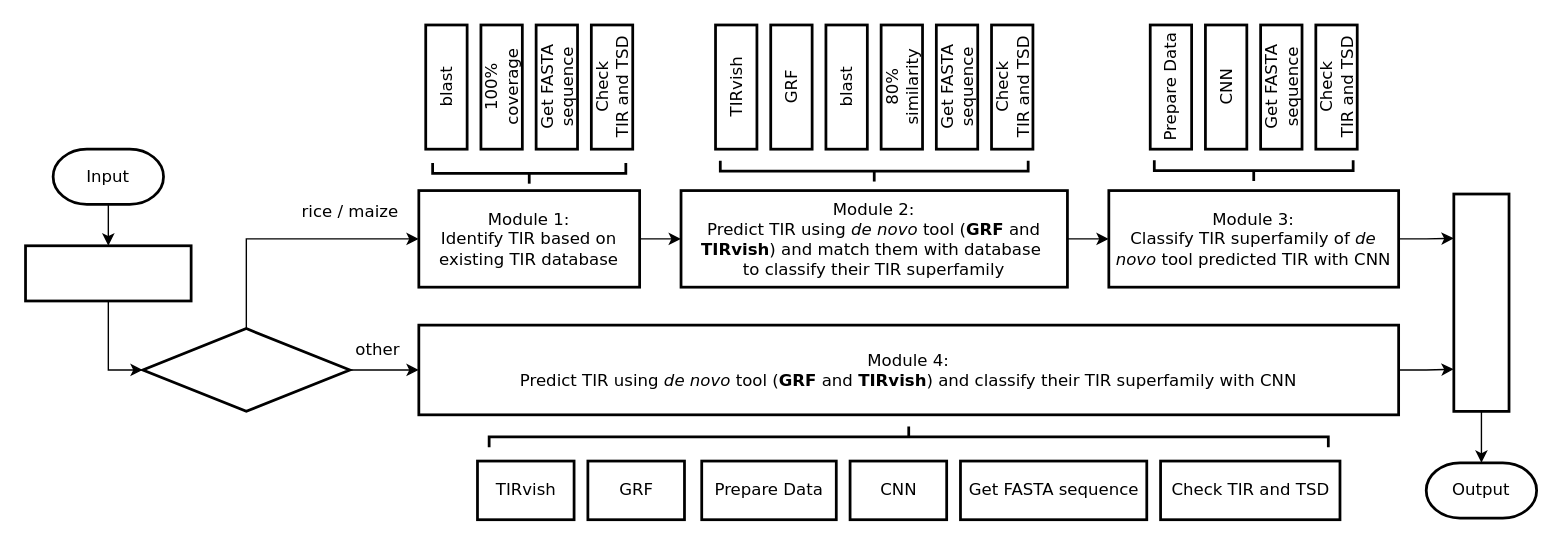
Image size: 1561x545. Some labels were removed from this diagram. The shapes that lost their labels are listed below. From the top down, each one's centre as x and y in pixels, then its label:
At (107,273): "Pre-scan of genome file".
At (1481,302): "Post- processing".
At (246,369): "What species?".
